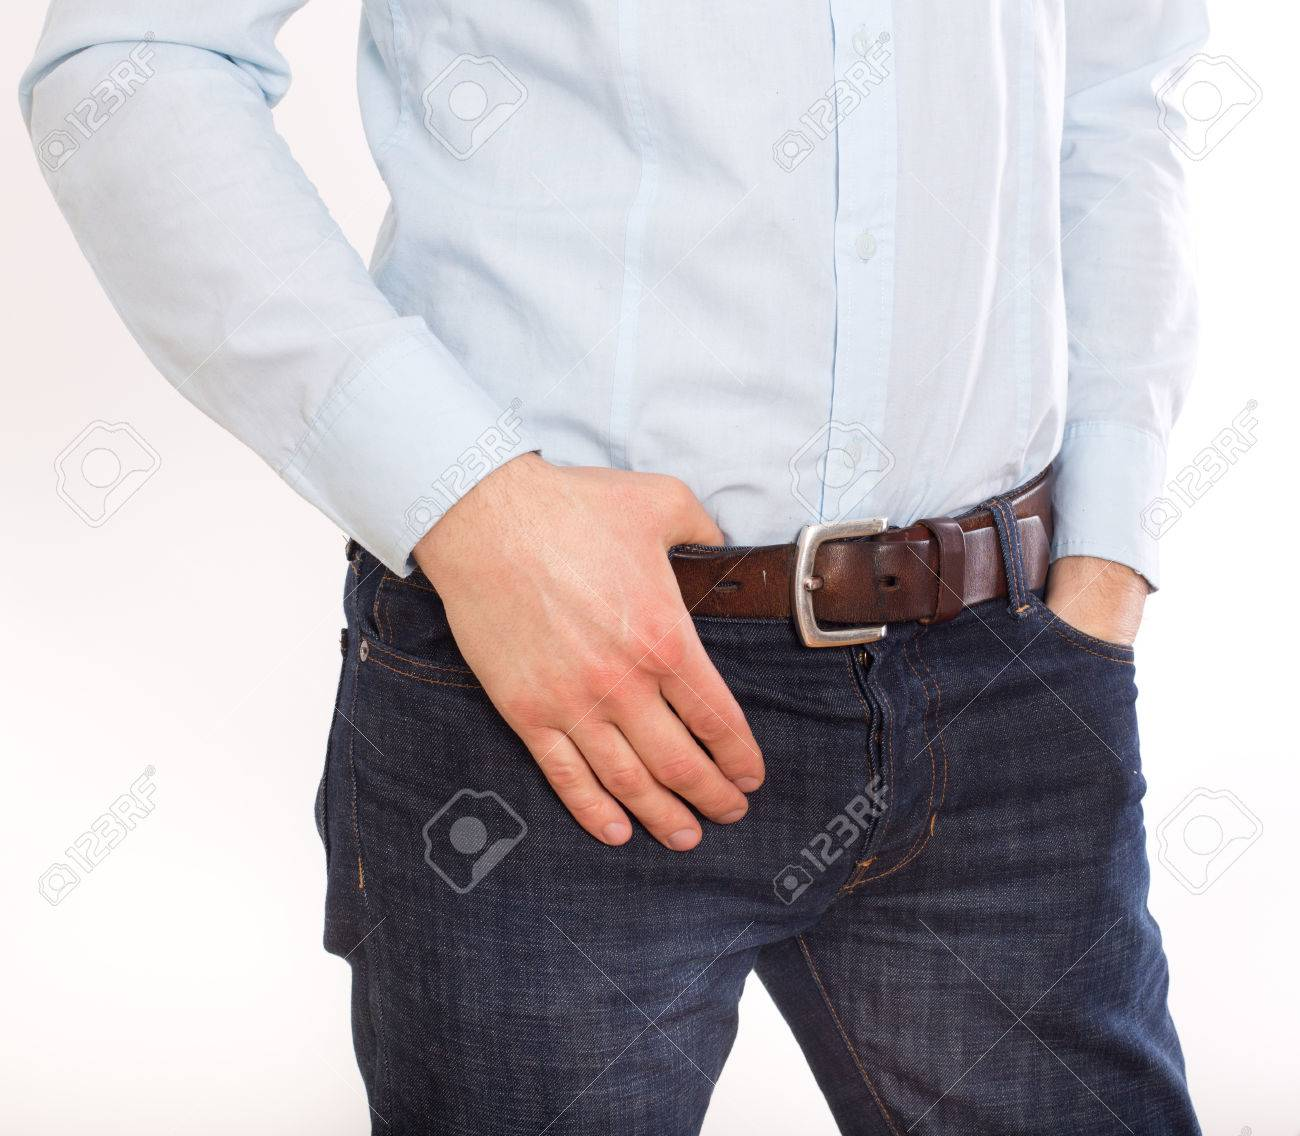C_jeans: (323, 519, 1214, 1135)
F_belt: (644, 524, 1118, 639)
